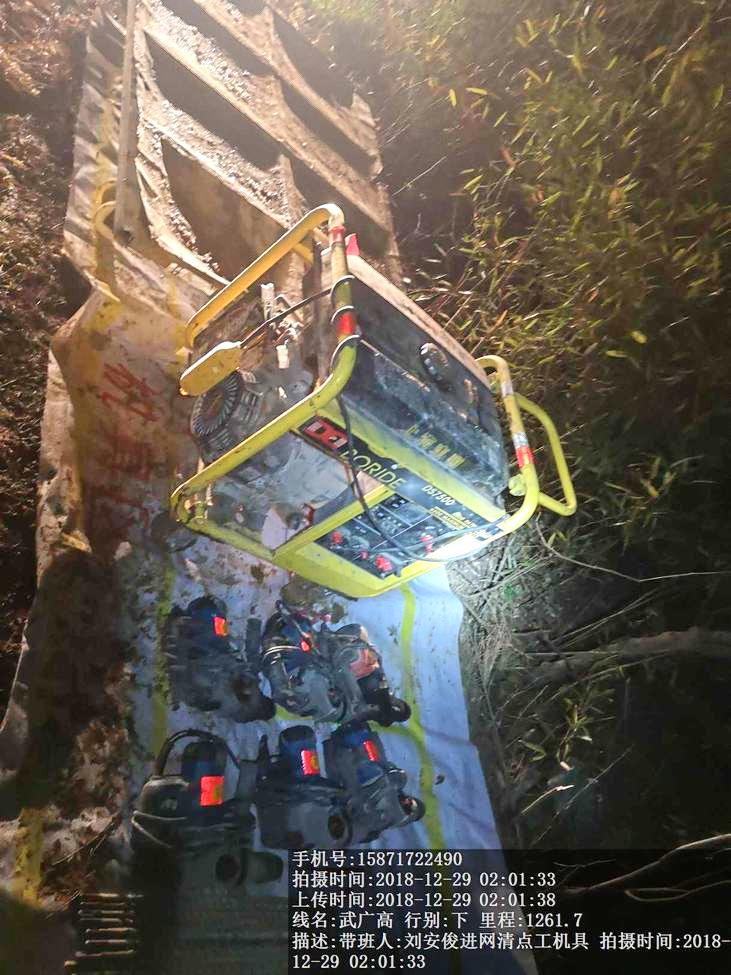DJ: (153, 241, 586, 600)
DZ: (143, 582, 282, 725)
